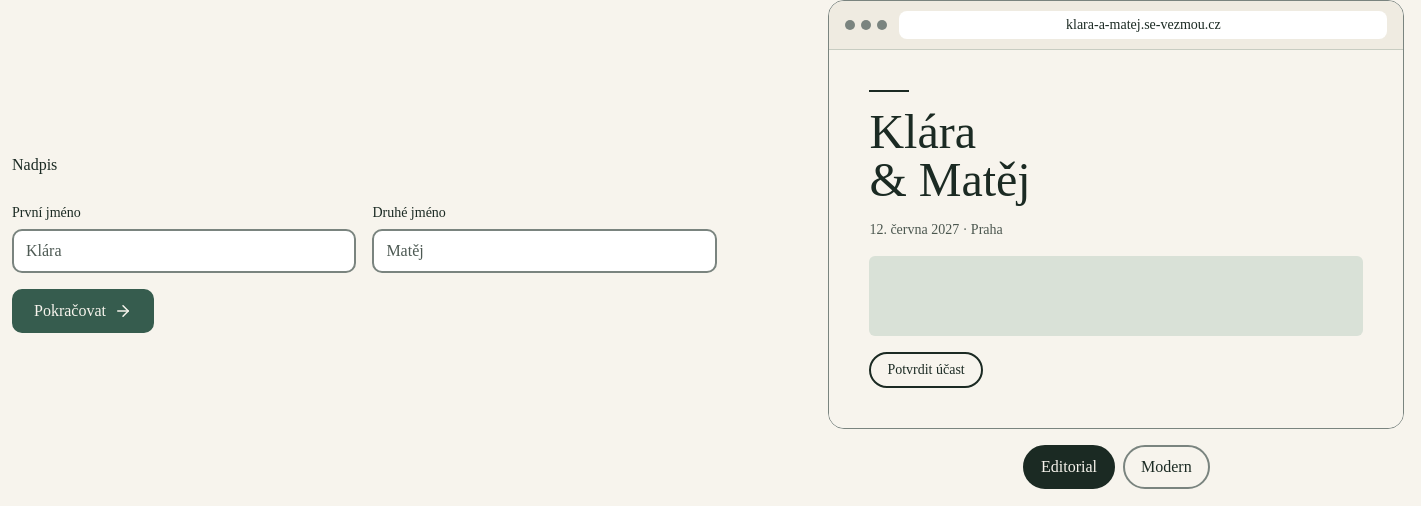
HeroStudio › jména z formuláře skládají živý náhled adresy
The width and height of the screenshot is (1421, 506).
Expected: the element with test id "address-preview" reads "klara-a-matej.se-vezmou.cz", top-left (1066, 17), bottom-right (1221, 32)
Type "Šárka" into the field labelled "První jméno".
click(184, 251); type("Šárka")  # box top-left (12, 229), bottom-right (356, 273)
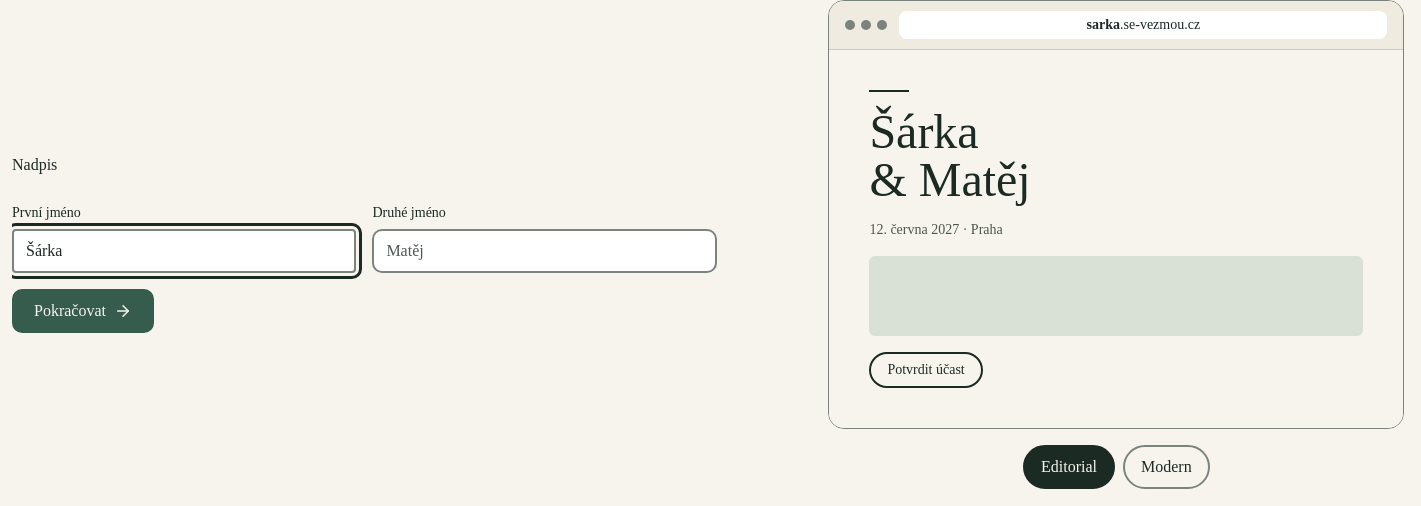
Type "Ondřej" into the field labelled "Druhé jméno".
click(545, 251); type("Ondřej")  # box top-left (372, 229), bottom-right (717, 273)
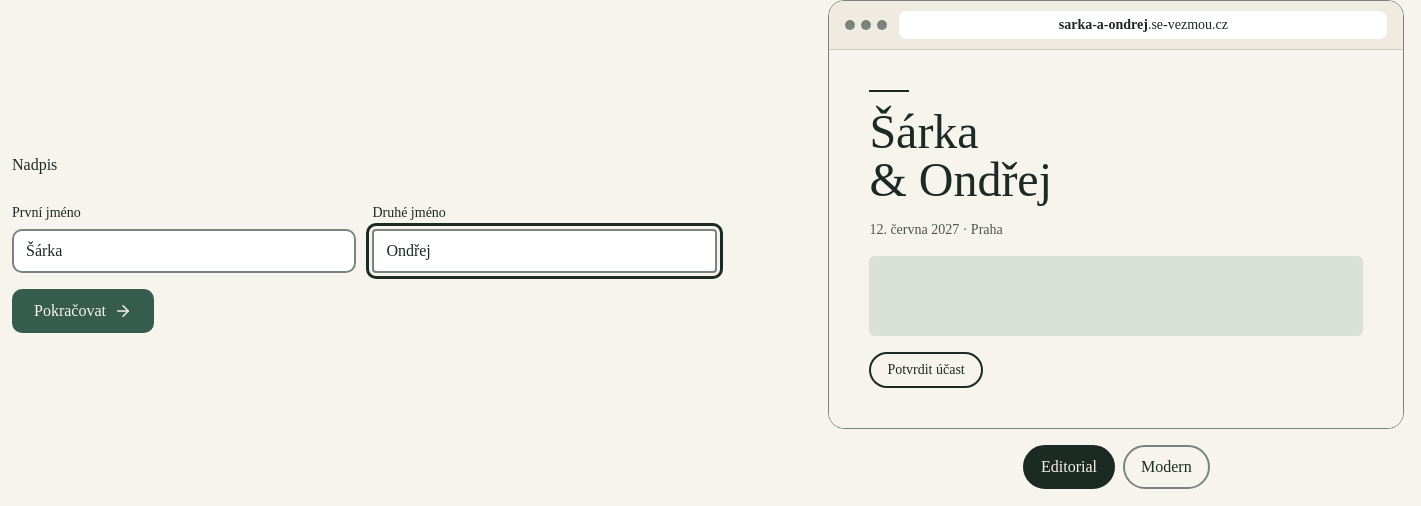
Now the element with test id "address-preview" reads "sarka-a-ondrej.se-vezmou.cz", box top-left (1059, 17), bottom-right (1228, 32)
Now the text "Šárka& Ondřej" is shown, box top-left (869, 105), bottom-right (1052, 206)
